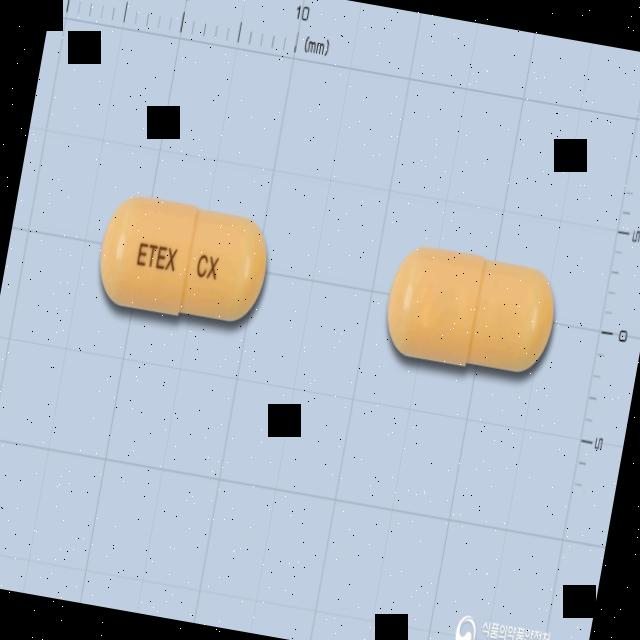Cefixime Cap- Etex: (86, 184, 280, 342)
